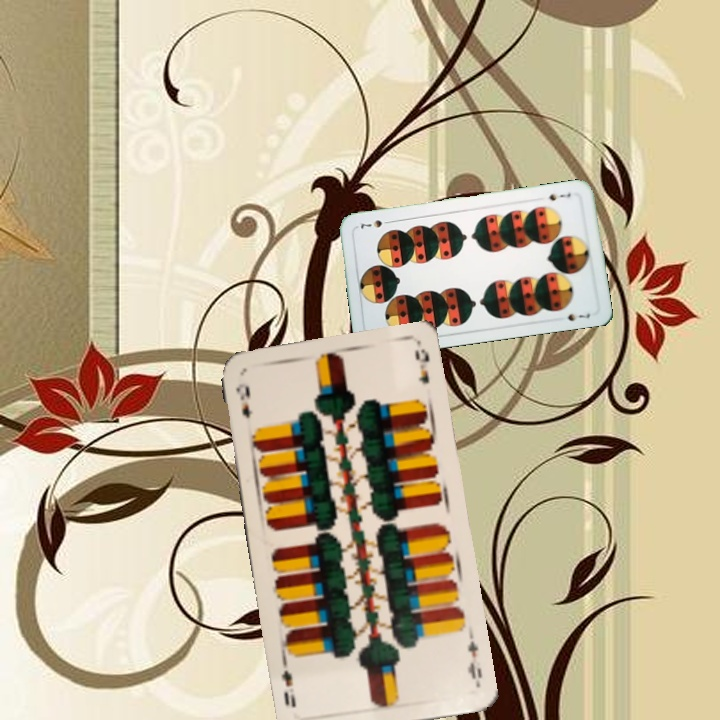E9: (463, 629, 485, 688), (232, 379, 254, 422)
S7: (544, 189, 573, 203)
